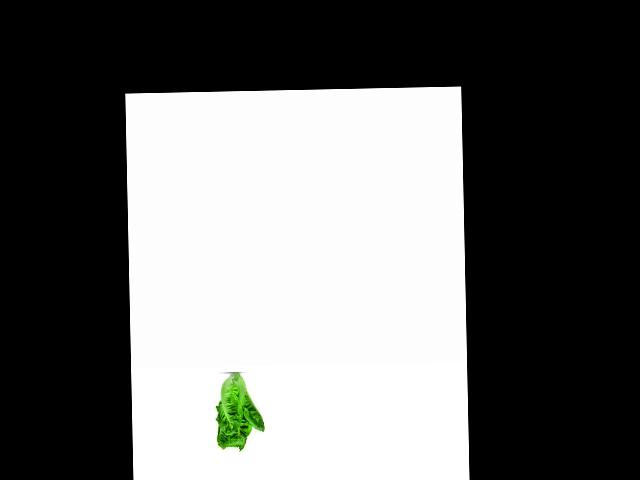lettuce: (212, 375, 265, 452)
